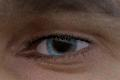eye: (46, 35, 77, 55)
